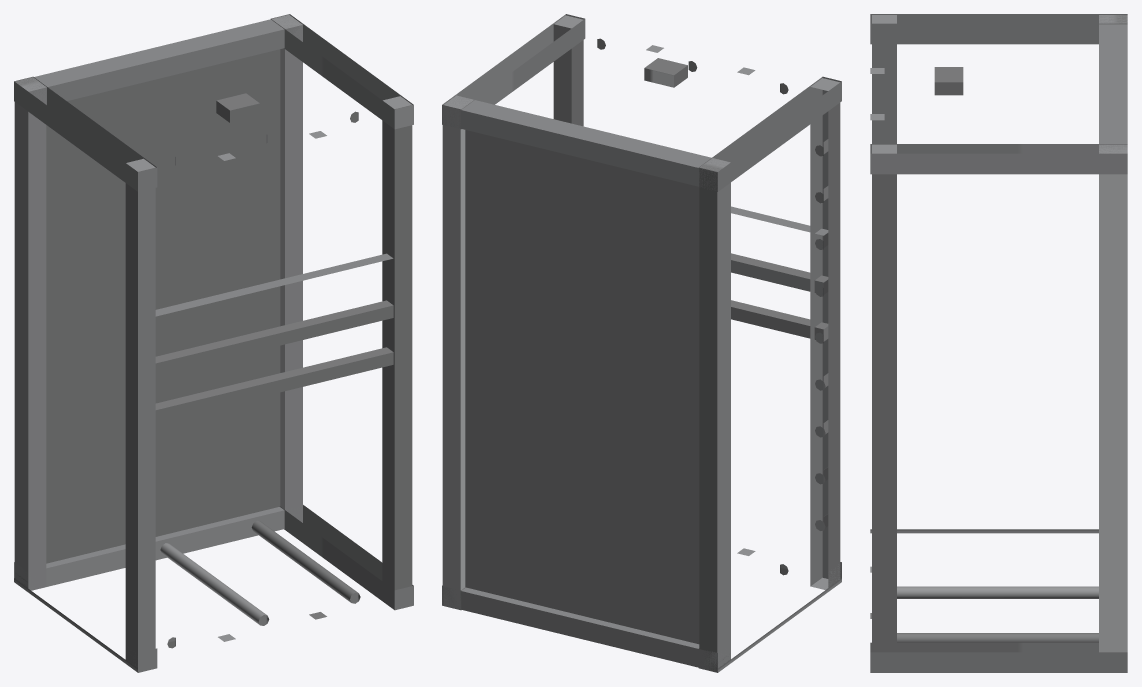
3 renders of one model, left to right at view 1: azimuth 30°, elevation 25°; view 2: azimuth 150°, elevation 25°; view 3: azimuth 270°, elevation 25°, orthographic. The views are drawn at different scales.
Bounding box in the file's own units: 0.462 × 0.816 × 0.36.
